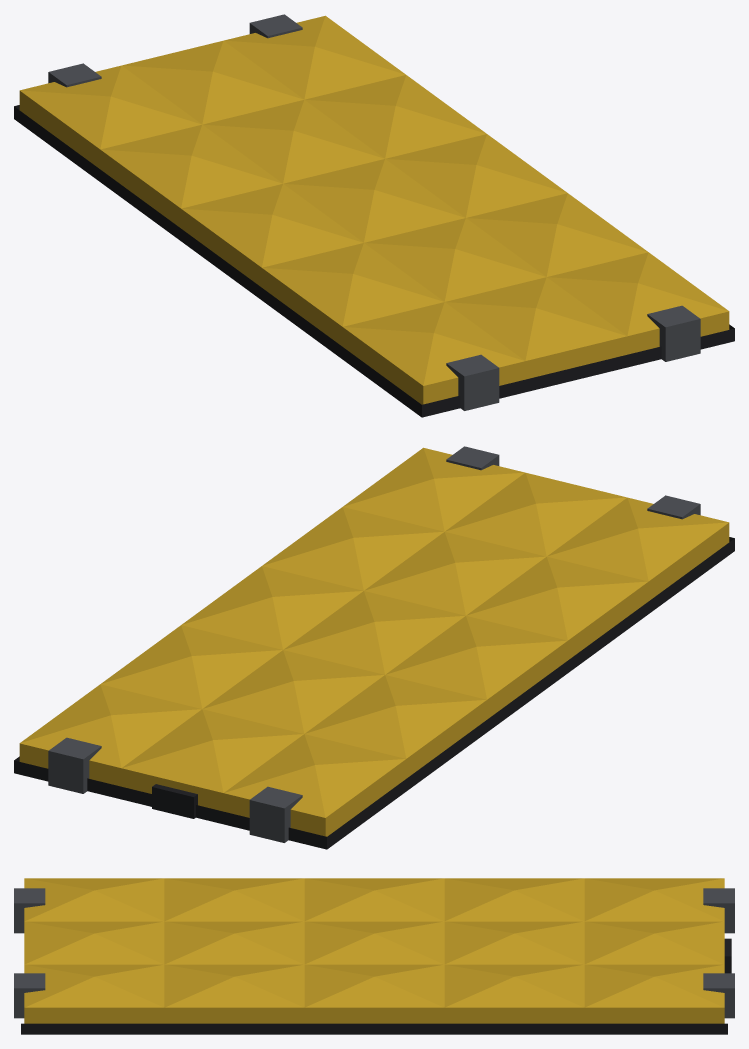
File: thermal_cover.glb
The picture shows the model from 3 angles, top to bottom: view 1: azimuth 30°, elevation 25°; view 2: azimuth 150°, elevation 25°; view 3: azimuth 270°, elevation 25°; orthographic projection. The views are drawn at different scales.
Parts seen in each view (by area): view 1: thermal_cover; view 2: thermal_cover; view 3: thermal_cover.
Boxes of the visible parts, left/top/right/bottom form: thermal_cover: left=14, top=14, right=734, bottom=417; thermal_cover: left=14, top=446, right=734, bottom=849; thermal_cover: left=14, top=878, right=734, bottom=1034.
Size of what is drawn, in the model's own units: 0.179 by 0.022 by 0.412.
